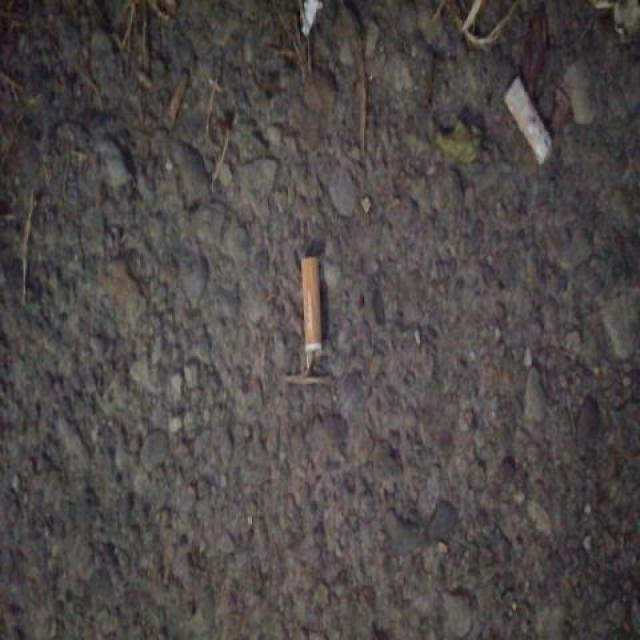non-organic waste: (499, 70, 557, 171), (298, 254, 326, 378)
